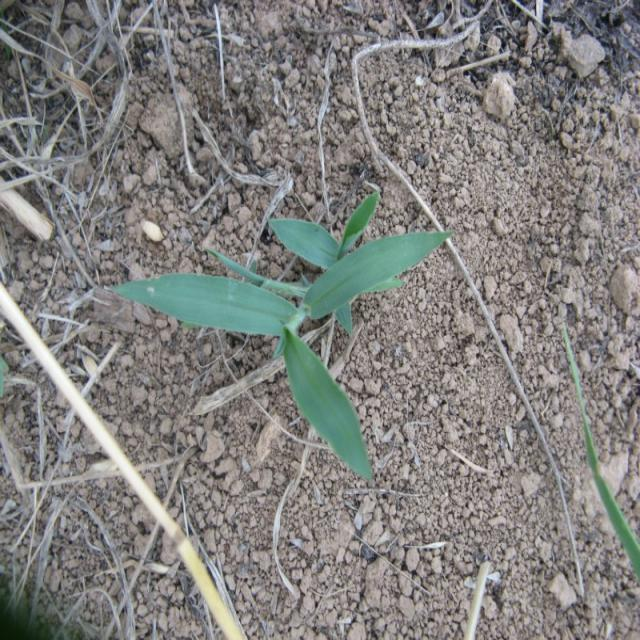bg: (121, 186, 450, 484)
